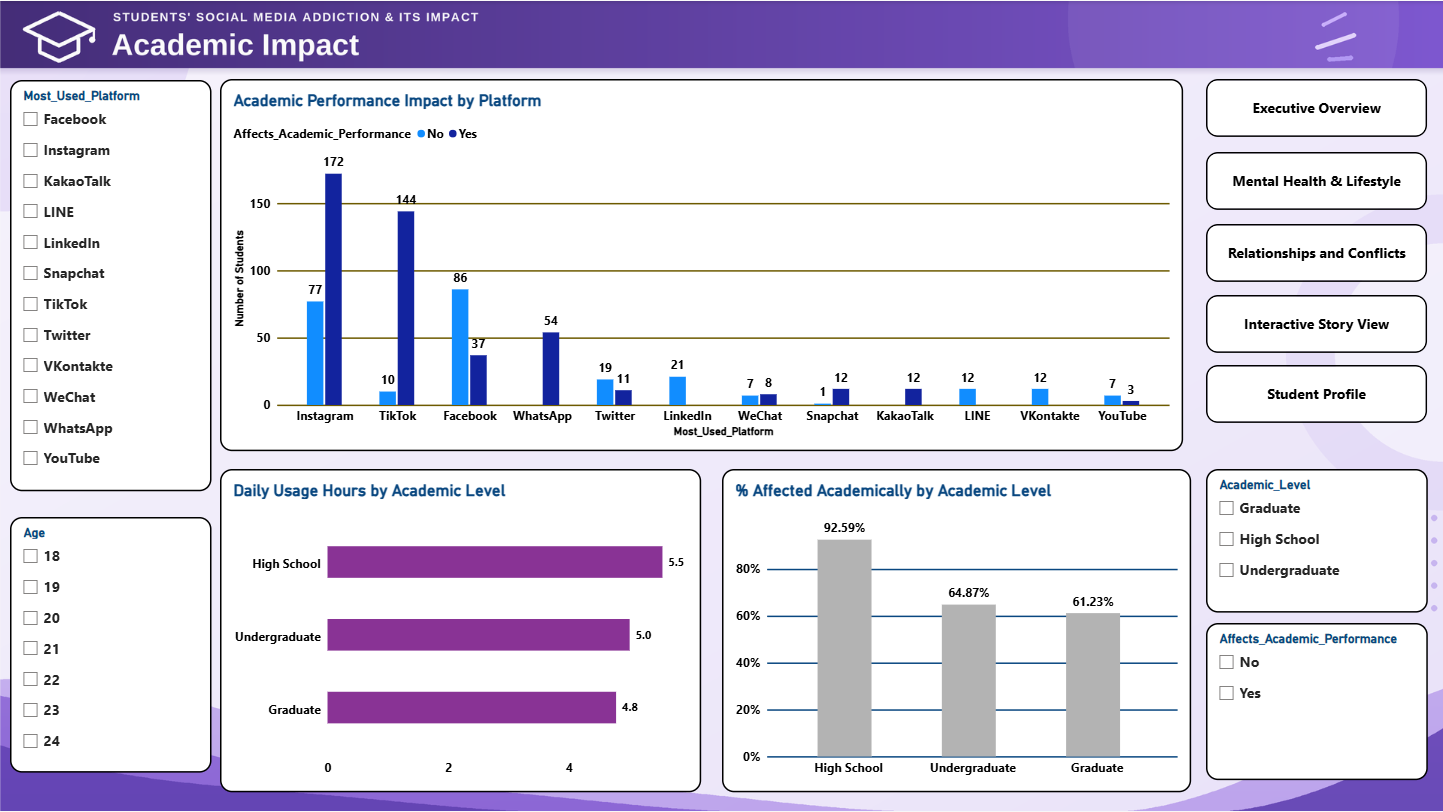

Layout of this report page (visuals, bound fields, positions):
{"tool":"powerbi","page":{"name":"Academic Impact","canvas":[1920,1080],"ordinal":2},"visuals":[{"type":"clusteredBarChart","title":"Daily Usage Hours by Academic Level","fields":{"Category":["Student Details.Academic_Level"],"Y":["Avg(Platform Details.Avg_Daily_Usage_Hours)"]},"box":[293.3,623,640.5,430.4],"z":0},{"type":"clusteredColumnChart","title":"Academic Performance Impact by Platform","fields":{"Category":["Platform Details.Most_Used_Platform"],"Series":["Platform Details.Affects_Academic_Performance"],"Y":["CountNonNull(Student Details.Student_ID)"]},"box":[293.3,103.6,1281,494.6],"z":1000},{"type":"actionButton","box":[1603.4,484.4,294.3,77],"z":2000},{"type":"actionButton","box":[1603.4,201.3,294.3,77],"z":3000},{"type":"actionButton","box":[1603.4,296.2,294.3,77],"z":4000},{"type":"actionButton","box":[1603.4,391,294.3,77],"z":5000},{"type":"actionButton","box":[1603.4,103.6,294.3,77],"z":6000},{"type":"slicer","fields":{"Values":["Student Details.Age"]},"box":[13.1,685.7,268.4,339.9],"z":7000},{"type":"clusteredColumnChart","title":"% Affected Academically by Academic Level","fields":{"Category":["Student Details.Academic_Level"],"Y":["_Measures.% Affected Academically"]},"box":[960,623,624.4,430.4],"z":8000},{"type":"slicer","fields":{"Values":["Platform Details.Most_Used_Platform"]},"box":[13.1,105,268.4,547.1],"z":9000},{"type":"slicer","fields":{"Values":["Student Details.Academic_Level"]},"box":[1603.4,623,294.7,191.1],"z":10000},{"type":"slicer","fields":{"Values":["Platform Details.Affects_Academic_Performance"]},"box":[1603.4,827.2,294.7,208.6],"z":11000}]}

Visuals, with their boxes in screenshot pixels (x1, y1, x2, y2), scaled from the page's 1920x1080 canvas onto the 1443x812 screenshot:
"Daily Usage Hours by Academic Level" clusteredBarChart: <box>220,468,702,792</box>
"Academic Performance Impact by Platform" clusteredColumnChart: <box>220,78,1183,450</box>
actionButton: <box>1205,364,1426,422</box>
actionButton: <box>1205,151,1426,209</box>
actionButton: <box>1205,223,1426,281</box>
actionButton: <box>1205,294,1426,352</box>
actionButton: <box>1205,78,1426,136</box>
slicer - Student Details.Age: <box>10,516,212,771</box>
"% Affected Academically by Academic Level" clusteredColumnChart: <box>722,468,1191,792</box>
slicer - Platform Details.Most_Used_Platform: <box>10,79,212,490</box>
slicer - Student Details.Academic_Level: <box>1205,468,1427,612</box>
slicer - Platform Details.Affects_Academic_Performance: <box>1205,622,1427,779</box>
